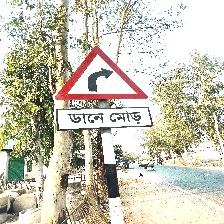Right-turn: (54, 46, 153, 133)
